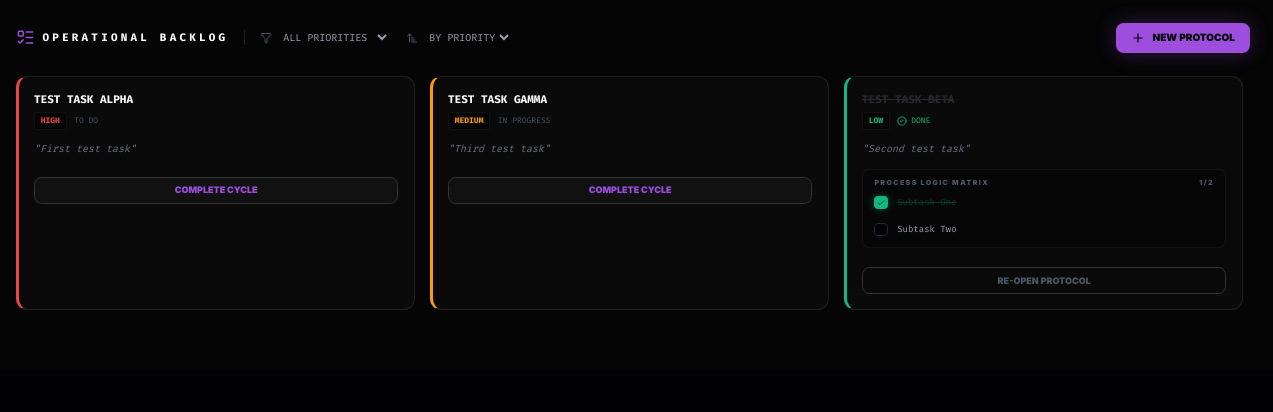
Test: TaskBoard › shows create form when New Protocol is clicked
Click the button "New Protocol".
click(1183, 38)  # box [1116,23,1250,53]
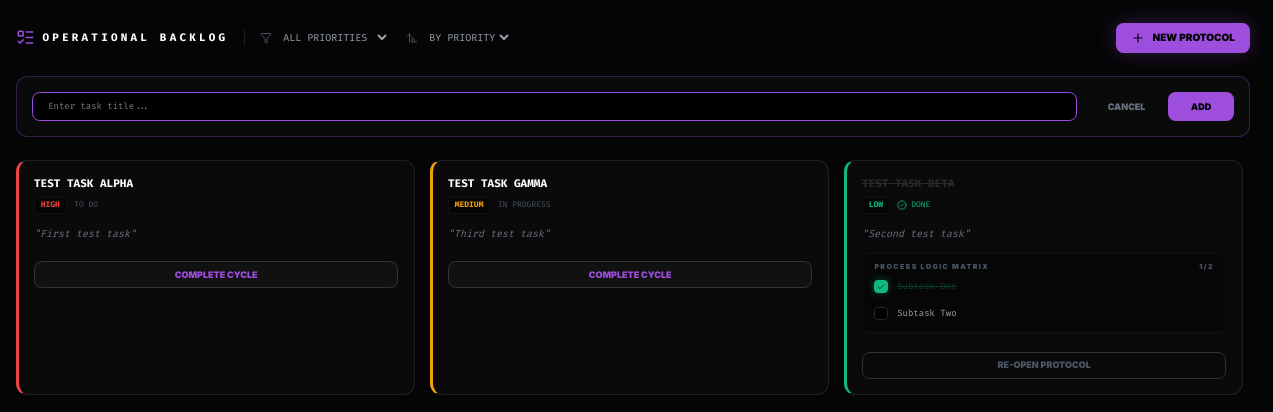
expect the field with placeholder "Enter task title..." is shown: met, box [32,92,1077,121]
